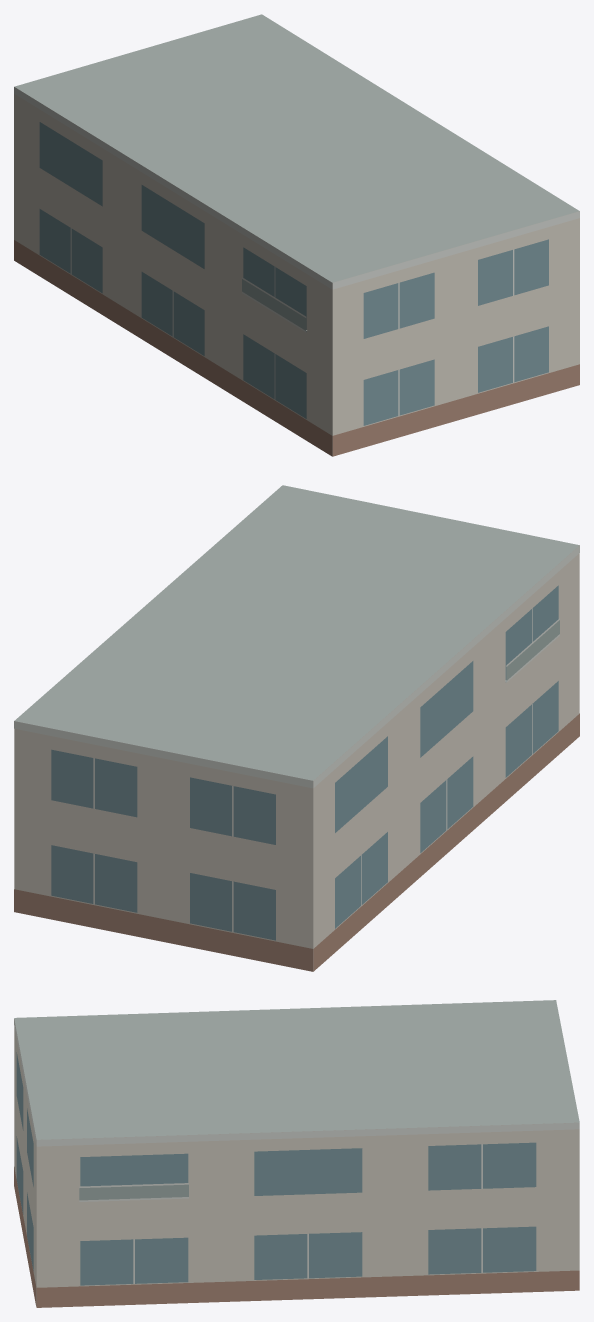
The model's file is survey-upis-32739905.glb.
3 renders of one model, top to bottom at view 1: azimuth 30°, elevation 25°; view 2: azimuth 150°, elevation 25°; view 3: azimuth 270°, elevation 25°, orthographic. The views are drawn at different scales.
Visible parts, largest first — view 1: survey-upis-32739905.tmp; view 2: survey-upis-32739905.tmp; view 3: survey-upis-32739905.tmp.
Boxes of the visible parts, x1,y1,x2,y2 form: survey-upis-32739905.tmp: (14, 14, 579, 456); survey-upis-32739905.tmp: (14, 485, 579, 971); survey-upis-32739905.tmp: (14, 1000, 579, 1307).
Bounding box in the file's own units: 10.91 × 6.1 × 18.63.
